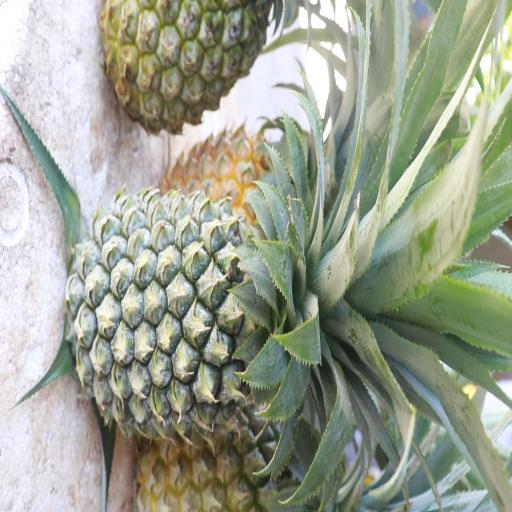------------------------------: (104, 0, 272, 129)
